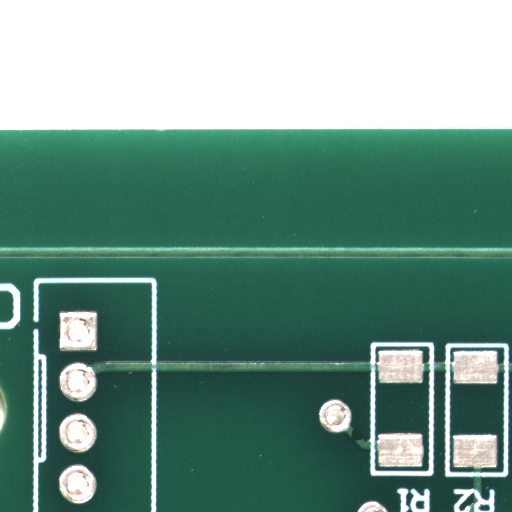Mouse_bite: (358, 435, 369, 446)
